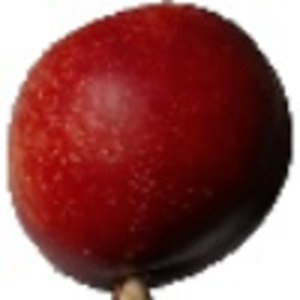nectarina: (1, 1, 294, 300)
